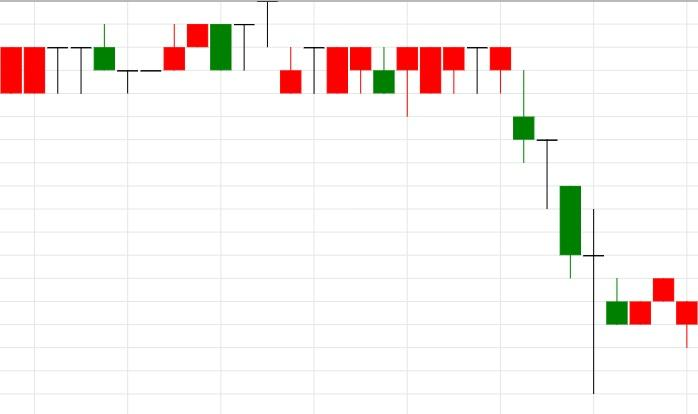bearish_engulfing_fall: (117, 23, 232, 93)
